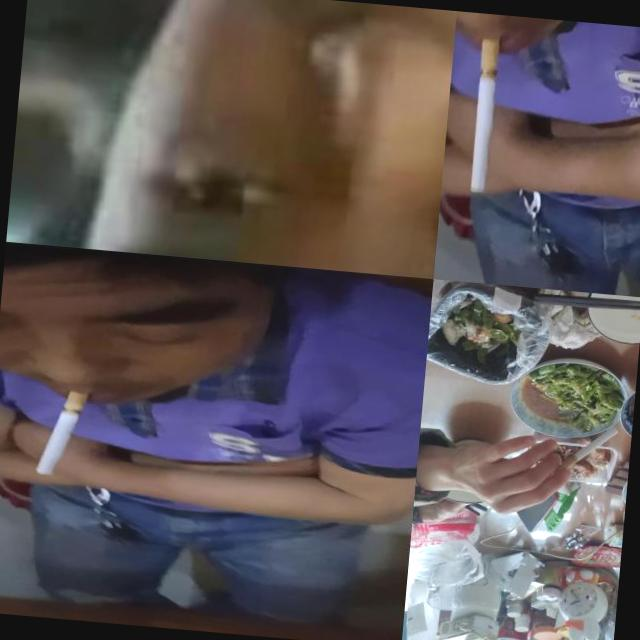smoke: (468, 33, 500, 193), (36, 388, 86, 476), (550, 421, 618, 482)
